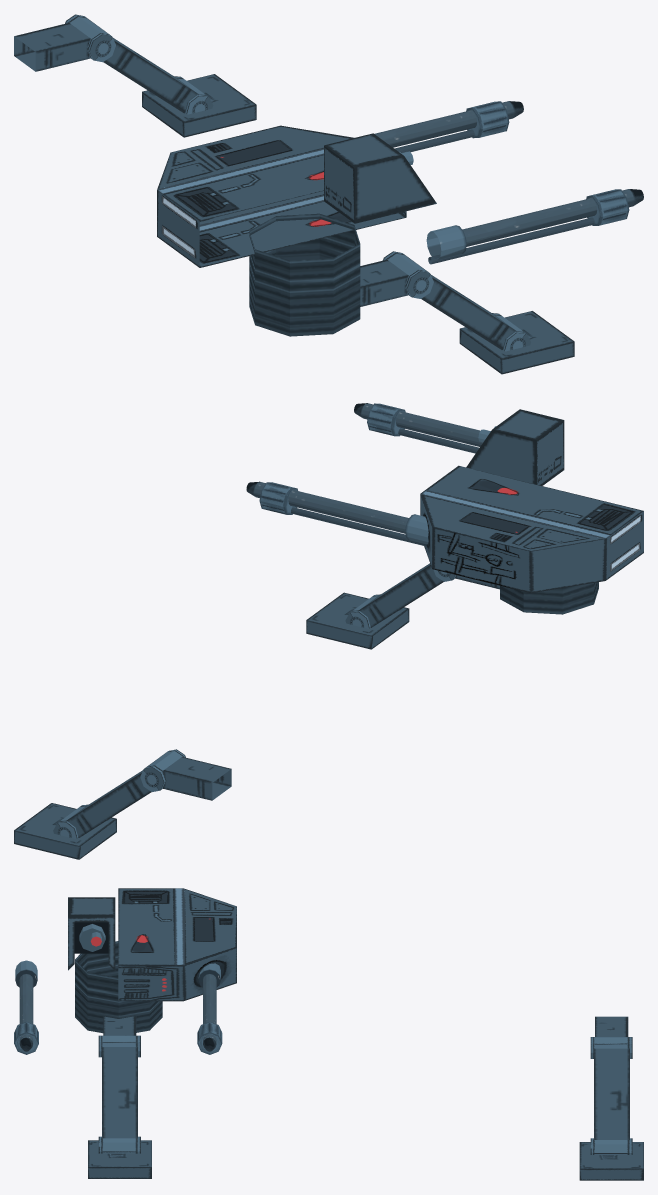
File: gunturret.glb
The picture shows the model from 3 angles, top to bottom: view 1: azimuth 30°, elevation 25°; view 2: azimuth 150°, elevation 25°; view 3: azimuth 270°, elevation 25°; orthographic projection. The views are drawn at different scales.
Parts seen in each view (by area): view 1: Head, Cylinder, Legs.002, Legs.001, Scope, Loading Tube.001, Loading Tube; view 2: Head, Legs.002, Legs.001, Scope, Loading Tube, Loading Tube.001, Cylinder; view 3: Head, Legs.002, Legs.001, Cylinder, Scope, Loading Tube.001, Loading Tube.
Boxes of the visible parts, x1,y1,x2,y2 form: Head: (157,125,406,267); Cylinder: (249,213,360,336); Legs.002: (14,14,256,137); Legs.001: (360,251,574,374); Scope: (324,133,436,223); Loading Tube.001: (426,189,643,264); Loading Tube: (374,101,523,152); Head: (420,465,643,593); Legs.002: (14,749,231,859); Legs.001: (306,563,499,649); Scope: (466,409,564,485); Loading Tube: (246,481,428,546); Loading Tube.001: (354,403,482,453); Cylinder: (500,582,598,614); Head: (118,888,236,1001); Legs.002: (579,1016,643,1180); Legs.001: (88,1016,151,1178); Cylinder: (75,941,162,1033); Scope: (68,897,115,970); Loading Tube.001: (14,960,38,1054); Loading Tube: (197,963,222,1054).
Bounding box in the file's own units: 5.18 × 3.31 × 9.71.
1 material, 1 textured.
